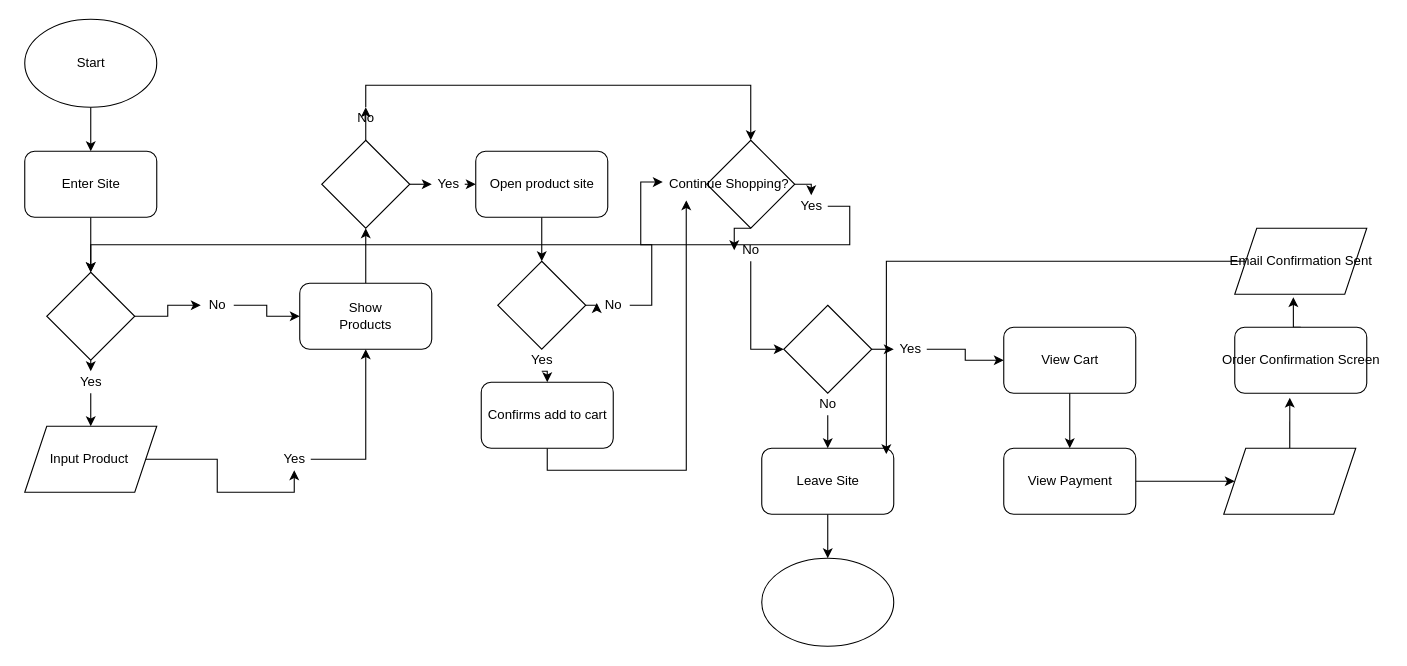
The diagram is 1407 pixels wide and 666 high, and some of its shapes have lost their labels. Here are the shapes that lost their labels. From the top down, the centre of each, then its label:
At (x=365, y=183): "View Specific Product?".
At (x=90, y=315): "Search For Product?".
At (x=541, y=304): "Add to cart?".
At (x=827, y=348): "Checkout?".
At (x=1289, y=480): "Input Payment Info".
At (x=827, y=601): "Finish".
